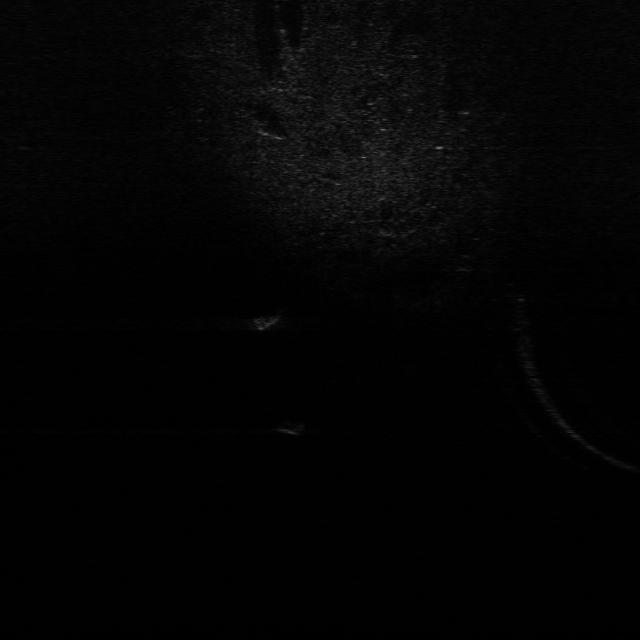cube: (279, 411, 313, 435)
square cage: (247, 306, 287, 333)
